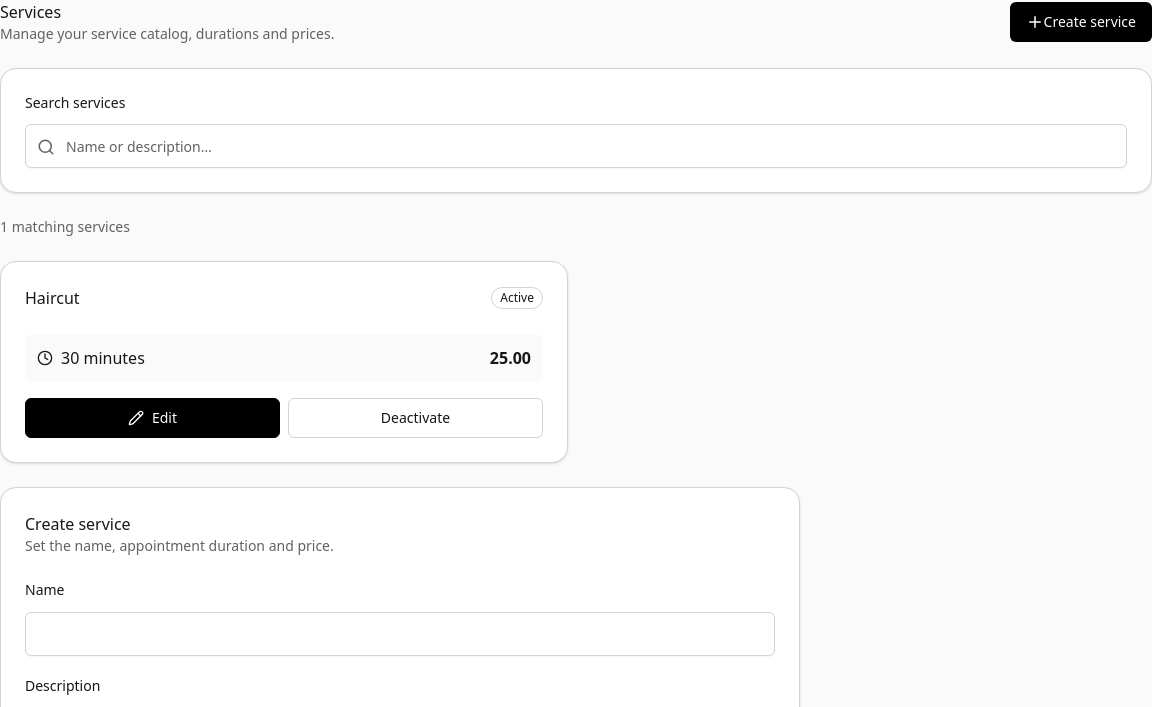
Test: service edit focuses editor and cancel preserves catalog without writing
This screenshot has width=1152, height=707.
Check: the heading "Haircut" is shown, box [25, 286, 80, 310]
Click the button with aria-label "Edit Haircut" at (152, 418), box [25, 398, 280, 438]
(page scrolled)
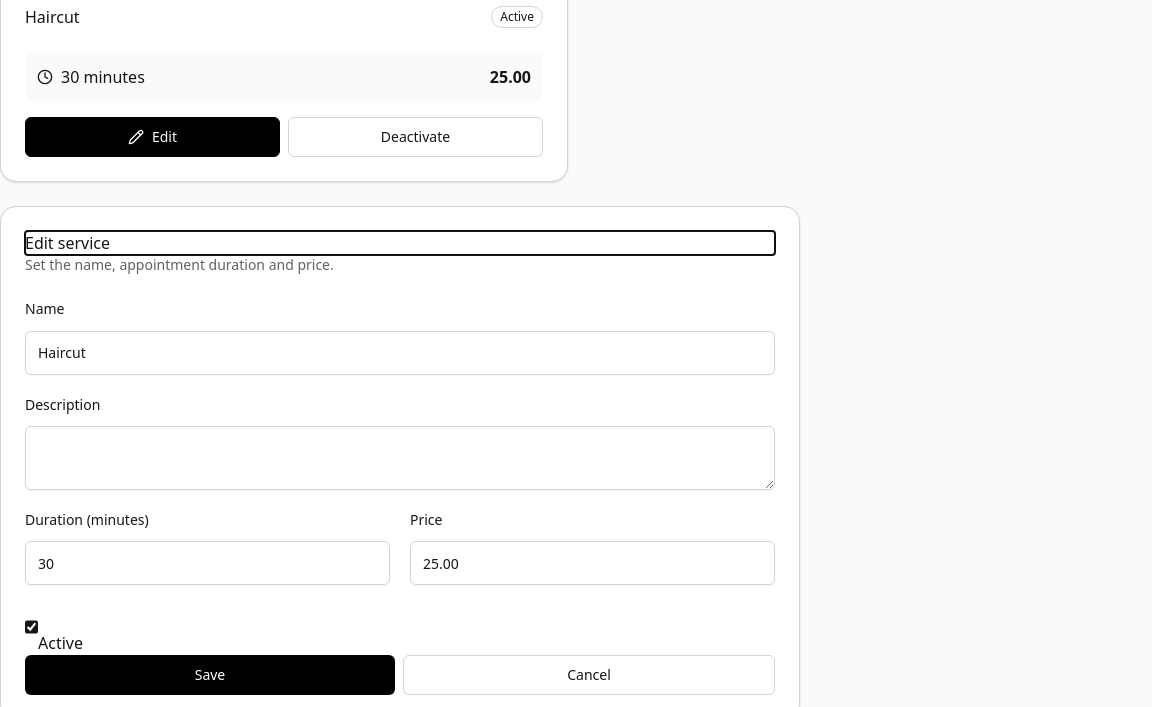
Check: the field labelled "Name" holds "Haircut", box [25, 330, 775, 374]
Click the button "Cancel" at (589, 675), box [403, 655, 775, 695]
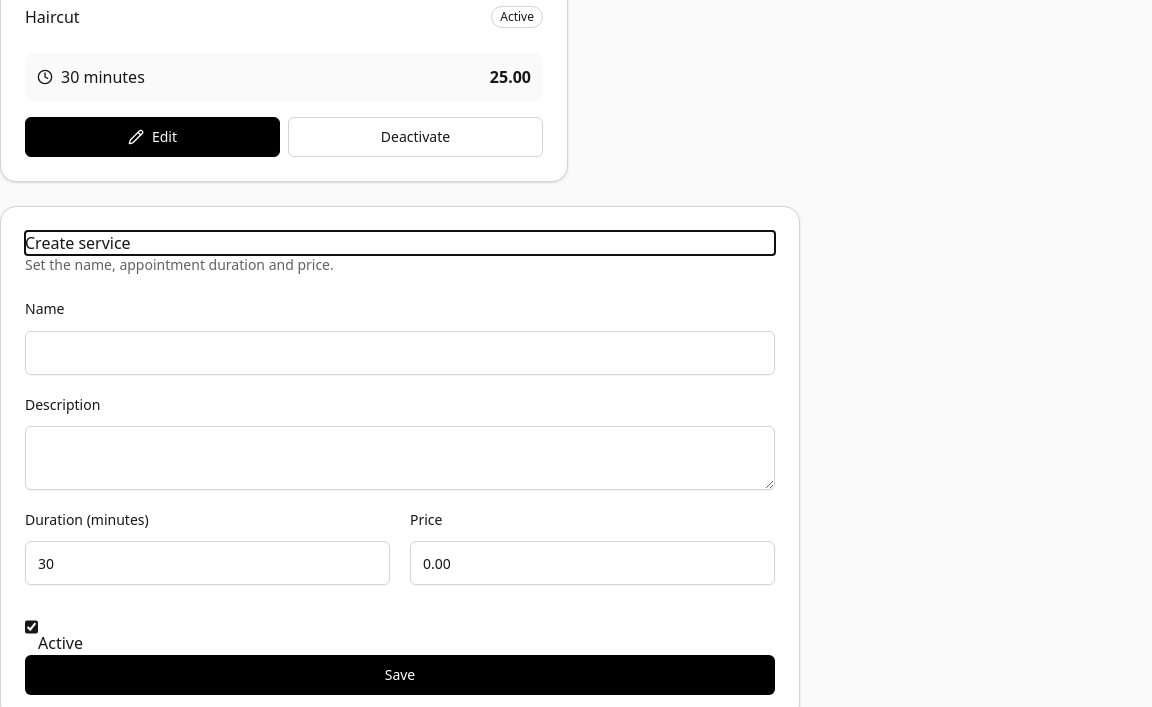
Check: the field labelled "Name" is empty, box [25, 330, 775, 374]
